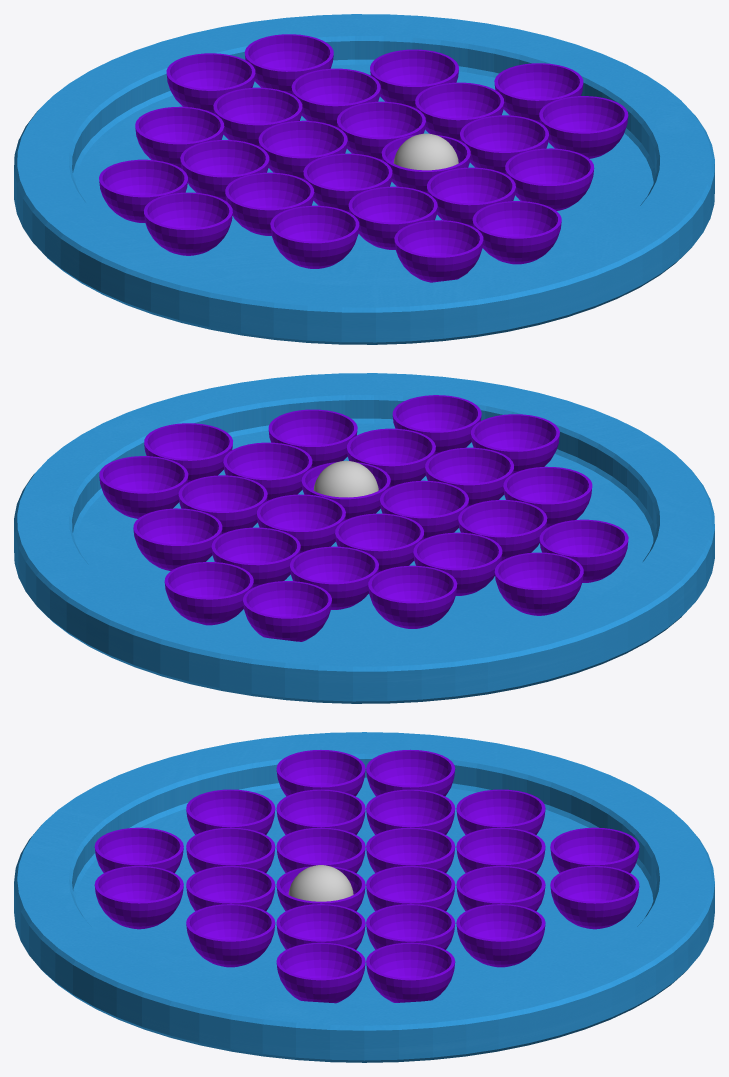
Rendered from BrainVita6.fbx.
3 views of the same model, one above another, from view 1: azimuth 30°, elevation 25°; view 2: azimuth 150°, elevation 25°; view 3: azimuth 270°, elevation 25° (orthographic).
Visible parts, largest first — view 1: BackCylinder, 6.001, 6.002, 7.003, 1.003, 2.002, 2.001, 6.003, 6, 7.002, 7.001, 6.007 (+14 smaller); view 2: BackCylinder, 6.003, 6.007, 1.002, 7.002, 2.007, 2.003, 7.007, 6.002, 6.008, 6.001, 7.003 (+14 smaller); view 3: BackCylinder, 2.007, 2.001, 1.003, 1.002, 2.002, 2.003, 6.002, 6.003, 2.008, 2, 6.007 (+14 smaller).
Boxes of the visible parts, x1,y1,x2,y2 form: BackCylinder: (14, 14, 714, 344); 6.001: (270, 205, 359, 268); 6.002: (144, 192, 232, 255); 7.003: (394, 220, 483, 282); 1.003: (472, 201, 561, 264); 2.002: (539, 96, 628, 158); 2.001: (505, 148, 594, 210); 6.003: (99, 159, 187, 222); 6: (225, 172, 314, 235); 7.002: (166, 53, 255, 113); 7.001: (348, 186, 437, 249); 6.007: (135, 106, 224, 168); BackCylinder: (14, 373, 714, 703); 6.003: (494, 552, 583, 615); 6.007: (368, 565, 457, 628); 1.002: (164, 562, 253, 625); 7.002: (243, 581, 331, 641); 2.007: (133, 508, 222, 570); 2.003: (99, 456, 188, 518); 7.007: (290, 546, 378, 609); 6.002: (539, 519, 628, 582); 6.008: (413, 532, 502, 595); 6.001: (503, 466, 592, 528); 7.003: (471, 414, 559, 473); BackCylinder: (14, 732, 714, 1062); 2.007: (456, 904, 545, 967); 2.001: (186, 904, 275, 967); 1.003: (94, 866, 183, 929); 1.002: (550, 866, 639, 929); 2.002: (276, 942, 365, 1003); 2.003: (366, 942, 455, 1002); 6.002: (276, 750, 365, 796); 6.003: (366, 749, 455, 796); 2.008: (366, 904, 455, 949); 2: (276, 904, 365, 949); 6.007: (456, 789, 545, 834).
Size of the model in its own units: 1.71 by 0.1816 by 1.71.
